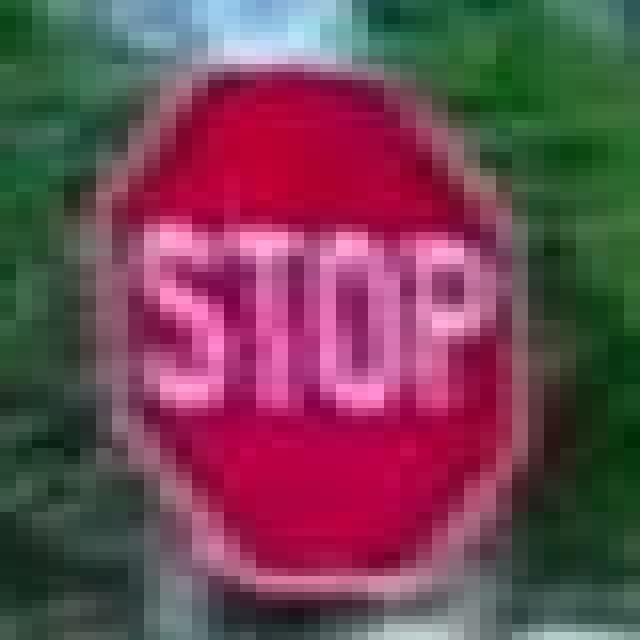Stop-Sign: (110, 79, 526, 574)
